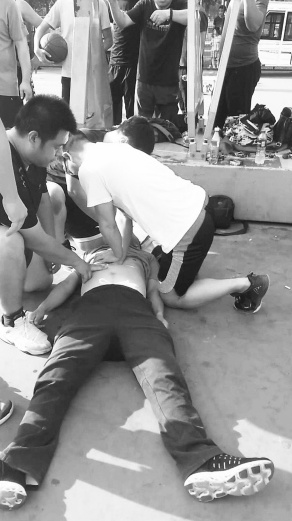falling: (10, 220, 277, 505)
